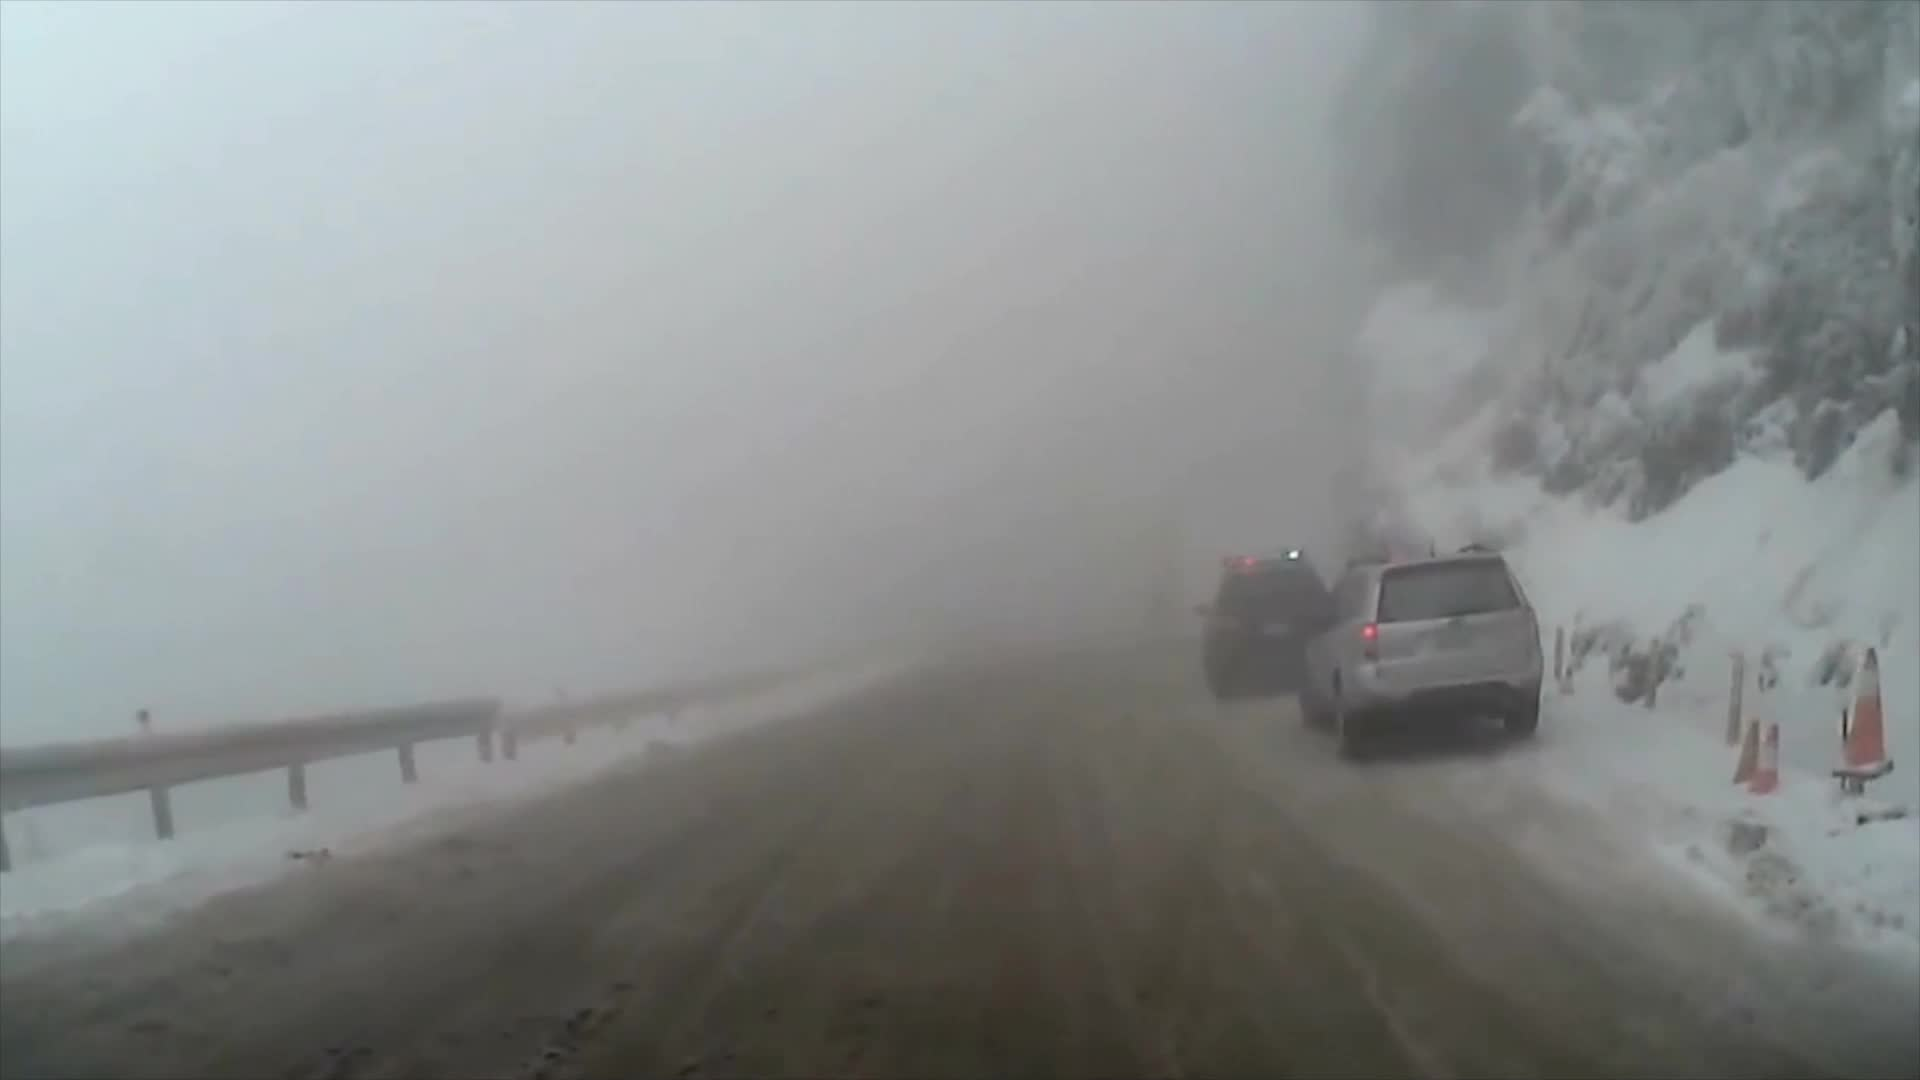vehicle: (1292, 533, 1540, 758), (1189, 546, 1337, 702)
